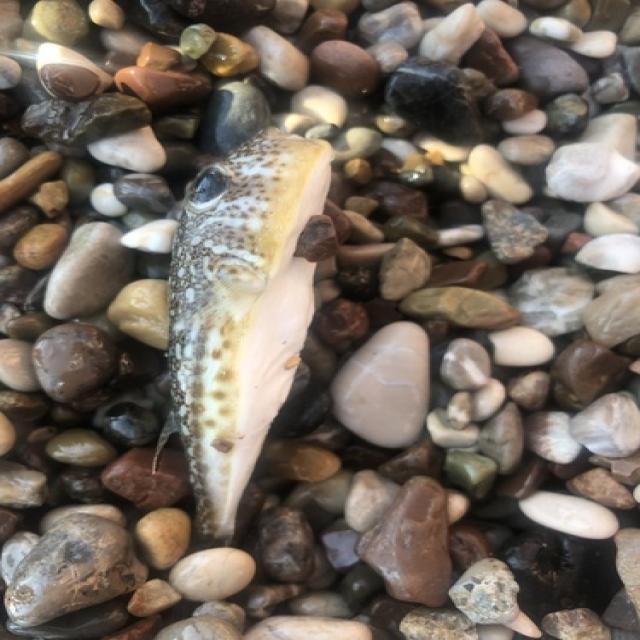Balik: (169, 128, 332, 542)
